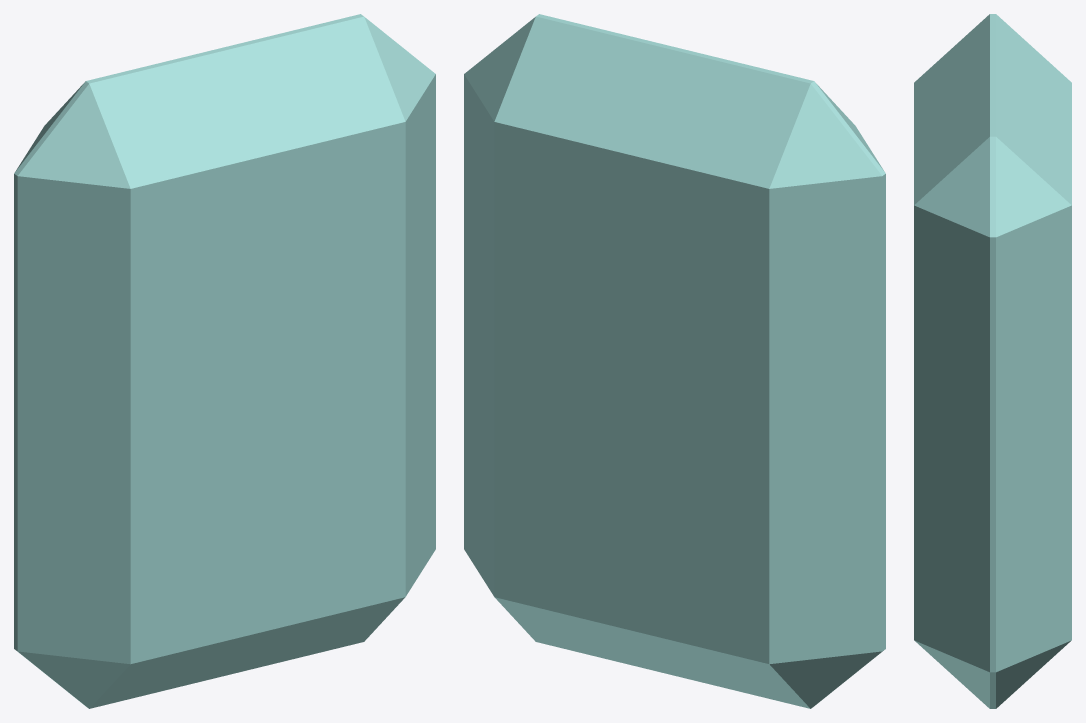
File: SM_NPC_Accessory_03_BureauBadge.glb
The picture shows the model from 3 angles, left to right: view 1: azimuth 30°, elevation 25°; view 2: azimuth 150°, elevation 25°; view 3: azimuth 270°, elevation 25°; orthographic projection. The views are drawn at different scales.
Parts seen in each view (by area): view 1: SM_NPC_Accessory_03_BureauBadge; view 2: SM_NPC_Accessory_03_BureauBadge; view 3: SM_NPC_Accessory_03_BureauBadge.
Part boxes in pixels (x1,y1,x2,y2): SM_NPC_Accessory_03_BureauBadge: [14, 14, 435, 708]; SM_NPC_Accessory_03_BureauBadge: [464, 14, 885, 708]; SM_NPC_Accessory_03_BureauBadge: [914, 14, 1071, 708].
Bounding box in the file's own units: 0.07 × 0.1 × 0.025.
